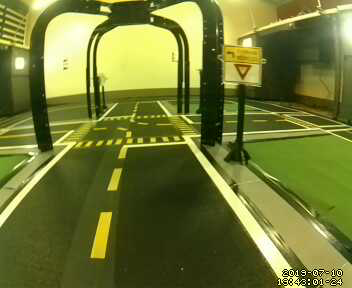Turn Yield: (223, 44, 263, 88)
